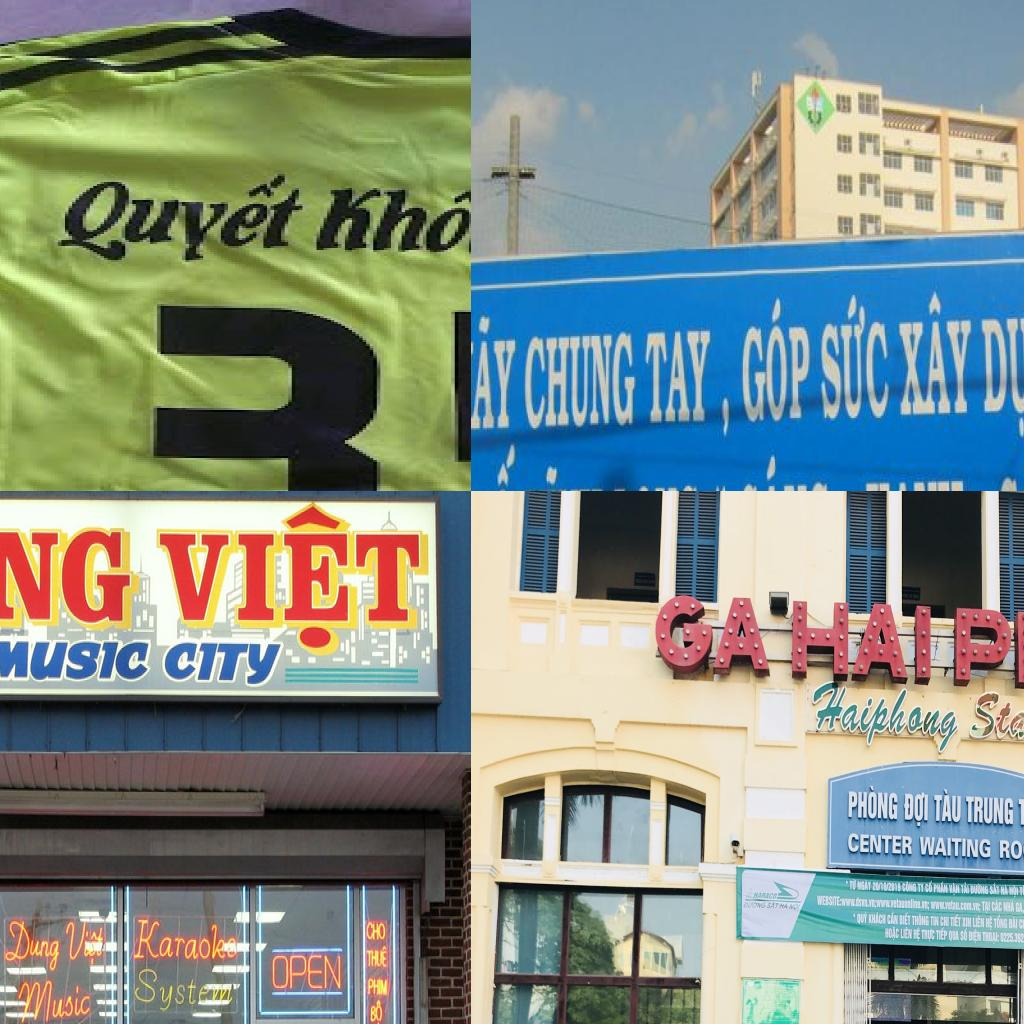text: (128, 292, 471, 491), (155, 504, 428, 657), (36, 170, 324, 266), (299, 180, 471, 274), (0, 524, 133, 630), (518, 324, 639, 435), (732, 293, 810, 435), (896, 284, 974, 424), (792, 601, 932, 679), (812, 681, 960, 754), (818, 288, 892, 425), (654, 594, 770, 671), (638, 319, 711, 431), (0, 635, 154, 685), (976, 285, 1024, 442), (956, 606, 1024, 696), (471, 308, 518, 438), (163, 639, 287, 688), (133, 968, 234, 1012), (134, 919, 237, 961), (736, 448, 833, 491), (968, 690, 1024, 745), (18, 981, 91, 1023), (5, 920, 62, 972), (521, 457, 604, 491), (272, 954, 342, 990), (848, 784, 898, 821), (920, 835, 992, 859), (847, 832, 913, 856), (965, 794, 1014, 826), (63, 922, 92, 962), (902, 790, 930, 828), (932, 788, 962, 823), (876, 896, 930, 912), (930, 899, 982, 913), (366, 946, 389, 970), (999, 839, 1024, 861), (367, 976, 390, 999), (842, 896, 876, 910), (366, 920, 388, 941), (709, 470, 728, 491), (370, 999, 384, 1024), (1000, 932, 1024, 946), (816, 895, 842, 907), (872, 882, 902, 892), (969, 882, 989, 896), (884, 926, 900, 942), (912, 912, 930, 926), (982, 931, 1000, 945), (1017, 792, 1024, 827), (852, 911, 868, 926), (868, 912, 886, 925), (856, 878, 872, 892), (994, 914, 1008, 930), (921, 928, 935, 943), (742, 901, 767, 909), (968, 930, 982, 944), (933, 881, 948, 894), (902, 881, 917, 893), (948, 882, 960, 897), (1008, 884, 1020, 899), (899, 911, 911, 926), (950, 913, 962, 928), (753, 892, 778, 899), (972, 915, 985, 928), (845, 878, 857, 892), (1003, 899, 1015, 913), (936, 927, 948, 941), (948, 929, 960, 943), (888, 910, 898, 926), (900, 927, 912, 940), (787, 902, 802, 912), (924, 879, 934, 894), (990, 881, 1000, 896), (992, 899, 1002, 913), (1008, 916, 1018, 930), (960, 882, 970, 895), (766, 901, 780, 910), (962, 916, 972, 928), (960, 927, 968, 942), (982, 900, 990, 914), (985, 916, 993, 930), (940, 916, 950, 927), (1000, 884, 1009, 896), (1015, 902, 1024, 914), (930, 916, 940, 926), (778, 902, 790, 910), (914, 927, 920, 942), (1018, 917, 1024, 930), (1019, 883, 1024, 897), (918, 883, 924, 893)
